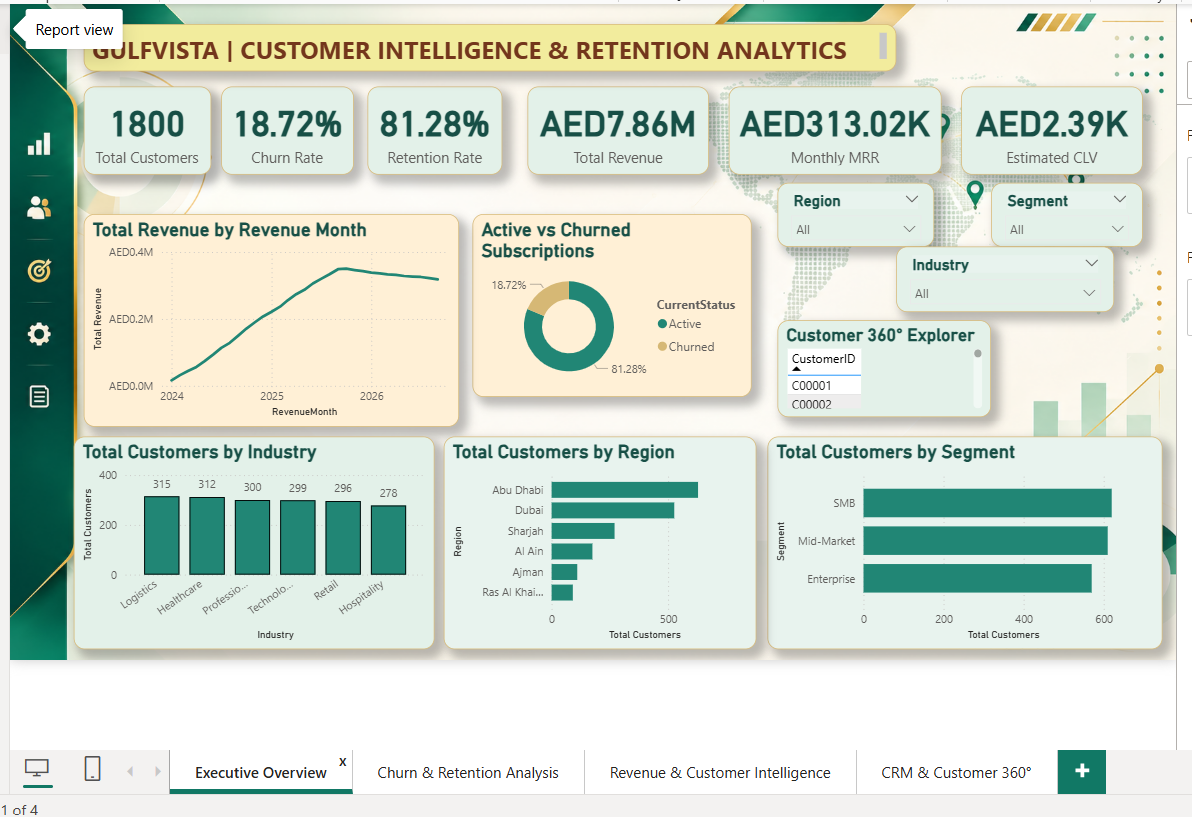

What the dashboard file says about the page in this screenshot:
{"tool":"powerbi","page":{"name":"Executive Overview","canvas":[1280,720],"ordinal":0},"visuals":[{"type":"card","fields":{"Values":["_Measures.Total Customers"]},"box":[81.3,91.2,139.7,96.9],"z":0},{"type":"card","fields":{"Values":["DimCustomer.Churn Rate"]},"box":[232.4,91.2,145.4,96.9],"z":1000},{"type":"card","fields":{"Values":["DimCustomer.Retention Rate"]},"box":[392.1,91.2,148.3,96.9],"z":2000},{"type":"card","fields":{"Values":["DimCustomer.Total Revenue"]},"box":[567.4,91.2,199.6,96.9],"z":3000},{"type":"card","fields":{"Values":["DimCustomer.Monthly Recurring Revenue"]},"box":[788.4,91.2,233.8,96.9],"z":4000},{"type":"card","fields":{"Values":["DimCustomer.Estimated Customer Lifetime Value"]},"box":[1043.6,91.2,199.6,96.9],"z":5000},{"type":"donutChart","title":"Active vs Churned Subscriptions","fields":{"Category":["FactSubscription.CurrentStatus"],"Y":["DimCustomer.Total Subscriptions"]},"box":[507.6,231,306.5,201],"z":6000},{"type":"lineChart","title":"Total Revenue by Revenue Month","fields":{"Category":["FactMonthlyRevenue.RevenueMonth"],"Y":["DimCustomer.Total Revenue"]},"box":[81.3,231,412,233.8],"z":7000},{"type":"clusteredBarChart","fields":{"Y":["_Measures.Total Customers"],"Category":["DimCustomer.Segment"]},"box":[831.2,474.8,433.4,233.8],"z":8000},{"type":"clusteredColumnChart","fields":{"Category":["DimCustomer.Industry"],"Y":["_Measures.Total Customers"]},"box":[69.9,474.8,396.3,233.8],"z":9000},{"type":"clusteredBarChart","fields":{"Category":["DimCustomer.Region"],"Y":["_Measures.Total Customers"]},"box":[476.2,474.8,343.6,233.8],"z":10000},{"type":"slicer","fields":{"Values":["DimCustomer.Region"]},"box":[842.9,196.6,172.2,70.1],"z":11000},{"type":"slicer","fields":{"Values":["DimCustomer.Segment"]},"box":[1077.6,196.6,166.1,70.1],"z":12000},{"type":"slicer","fields":{"Values":["DimCustomer.Industry"]},"box":[972.4,266.7,239.3,71.6],"z":13000},{"type":"tableEx","title":"Customer 360° Explorer","fields":{"Values":["DimCustomer.CustomerID"]},"box":[842.9,347.5,234.7,106.7],"z":14000},{"type":"textbox","box":[80.8,21.3,891.6,51.8],"z":15000}]}

Visuals, with their boxes on the page's 1280x720 design canvas (x1, y1, x2, y2). These are canvas units, not pixel positions in the 1192x817 screenshot, which may show the page scaled, cropped or inside an application window:
card - _Measures.Total Customers: <box>81,91,221,188</box>
card - DimCustomer.Churn Rate: <box>232,91,378,188</box>
card - DimCustomer.Retention Rate: <box>392,91,540,188</box>
card - DimCustomer.Total Revenue: <box>567,91,767,188</box>
card - DimCustomer.Monthly Recurring Revenue: <box>788,91,1022,188</box>
card - DimCustomer.Estimated Customer Lifetime Value: <box>1044,91,1243,188</box>
"Active vs Churned Subscriptions" donutChart: <box>508,231,814,432</box>
"Total Revenue by Revenue Month" lineChart: <box>81,231,493,465</box>
clusteredBarChart - _Measures.Total Customers x DimCustomer.Segment: <box>831,475,1265,709</box>
clusteredColumnChart - DimCustomer.Industry x _Measures.Total Customers: <box>70,475,466,709</box>
clusteredBarChart - DimCustomer.Region x _Measures.Total Customers: <box>476,475,820,709</box>
slicer - DimCustomer.Region: <box>843,197,1015,267</box>
slicer - DimCustomer.Segment: <box>1078,197,1244,267</box>
slicer - DimCustomer.Industry: <box>972,267,1212,338</box>
"Customer 360° Explorer" tableEx: <box>843,348,1078,454</box>
textbox: <box>81,21,972,73</box>
